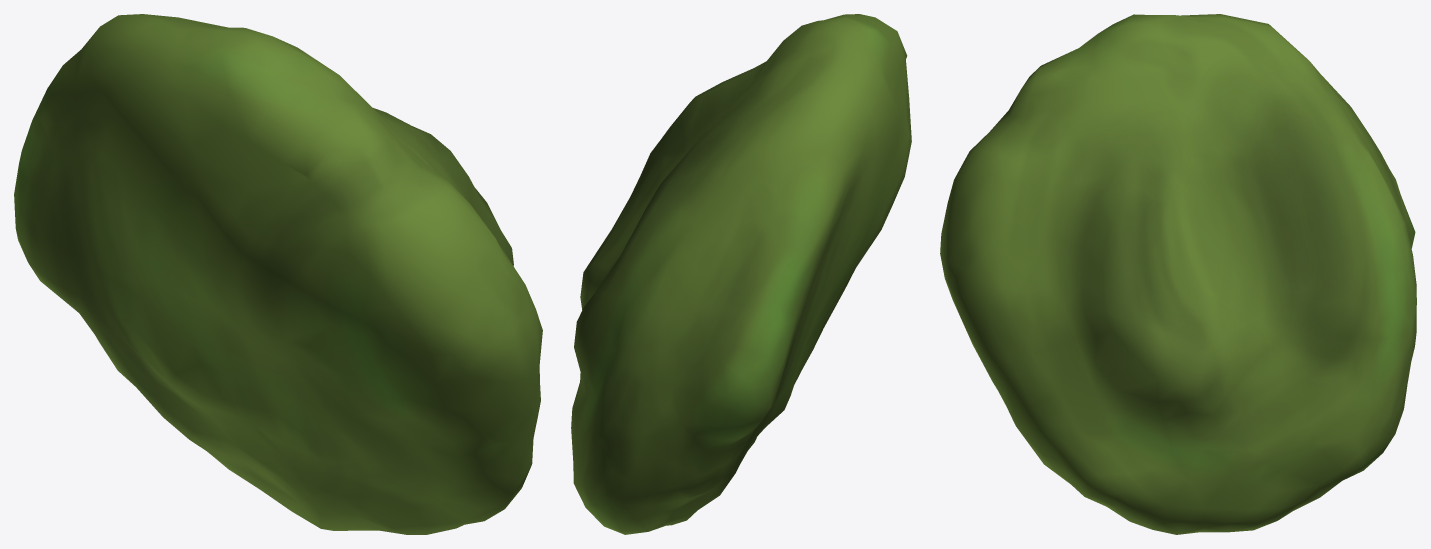
Rendered from Chloroplast.obj.
3 views of the same model, side by side, from view 1: azimuth 30°, elevation 25°; view 2: azimuth 150°, elevation 25°; view 3: azimuth 270°, elevation 25° (orthographic). The views are drawn at different scales.
Visible parts, largest first — view 1: Chloroplast; view 2: Chloroplast; view 3: Chloroplast.
Part boxes in pixels (x1,y1,x2,y2): Chloroplast: (14, 14, 542, 534); Chloroplast: (571, 14, 911, 534); Chloroplast: (940, 14, 1416, 534).
Size of the model in its own units: 0.5497 by 0.8208 by 0.8102.
Materials: 1 (1 with a texture image).
